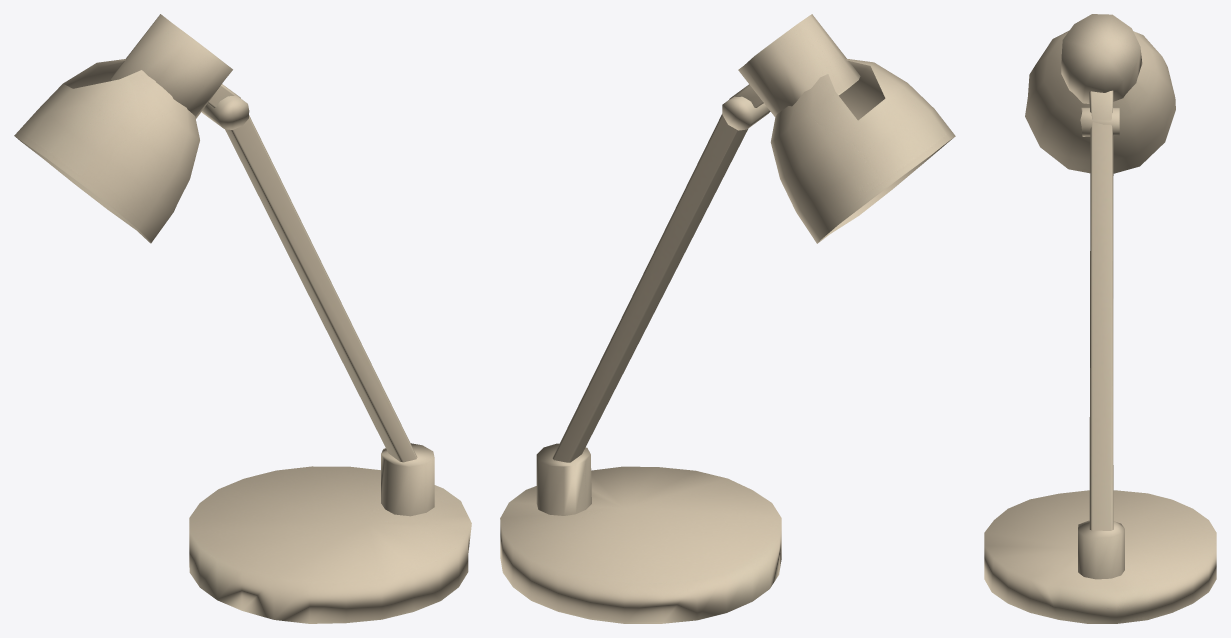
Rendered from desk_lamp.glb.
The picture shows the model from 3 angles, left to right: view 1: azimuth 30°, elevation 25°; view 2: azimuth 150°, elevation 25°; view 3: azimuth 270°, elevation 25°; orthographic projection. The views are drawn at different scales.
Bounding box in the file's own units: 0.7148 × 0.9512 × 0.4053.
1 material, 1 textured.
